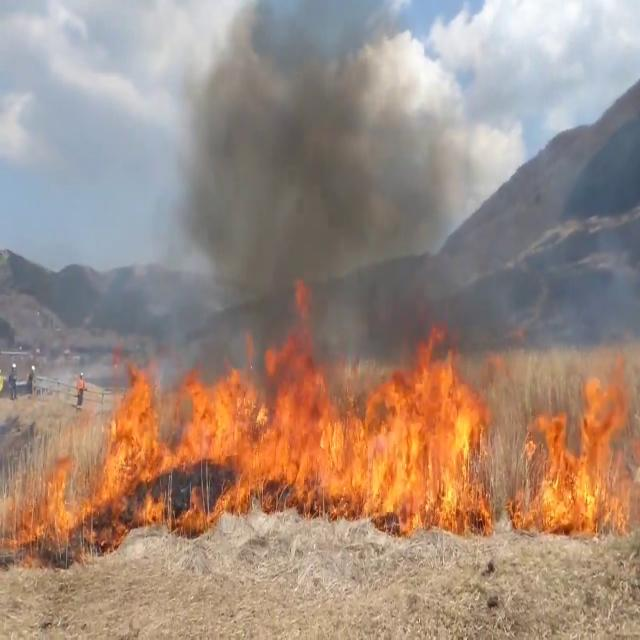Fire: (90, 325, 492, 523), (514, 345, 640, 533)
Smoke: (130, 1, 483, 379)
